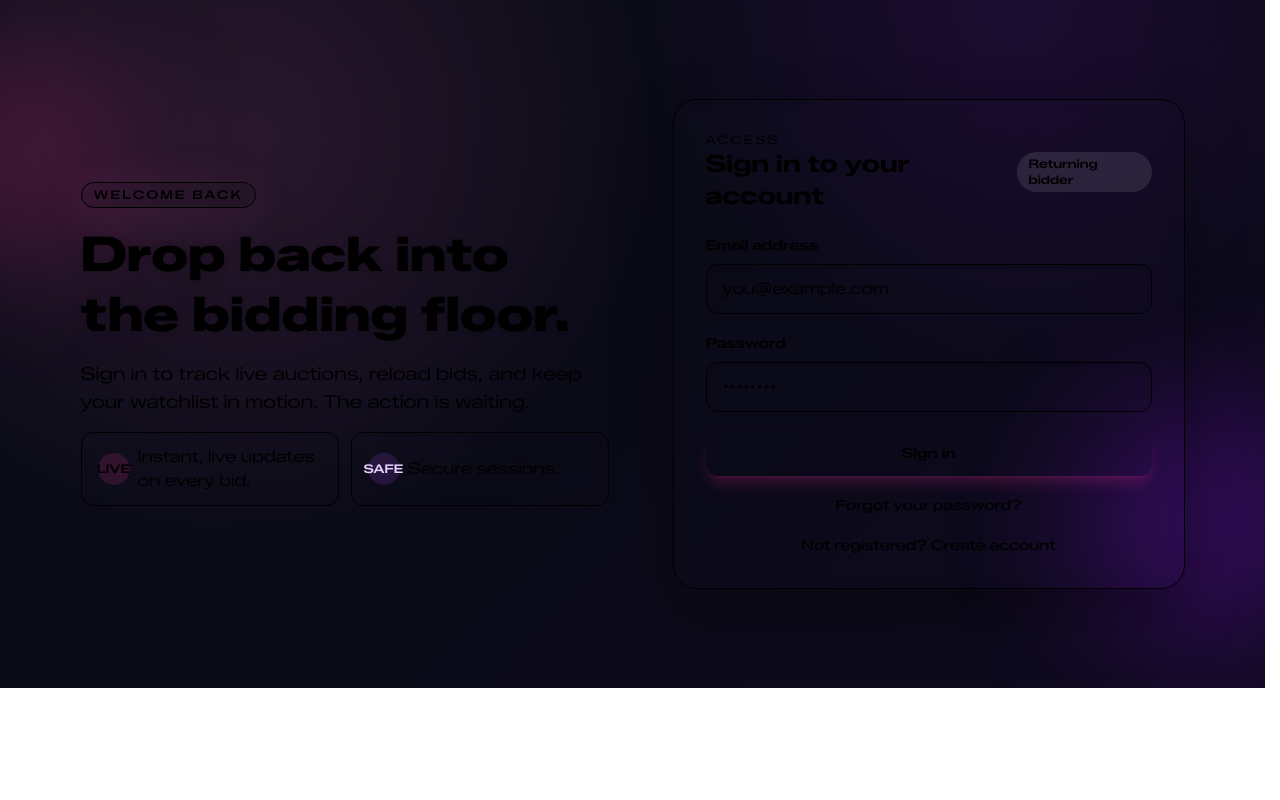
Test: LoginForm › links validation errors via aria-describedby and focuses the first invalid field
Type "nope@example.com" into the field labelled "Email address". click: {"x": 928, "y": 289}
box: left=706, top=264, right=1152, bottom=314
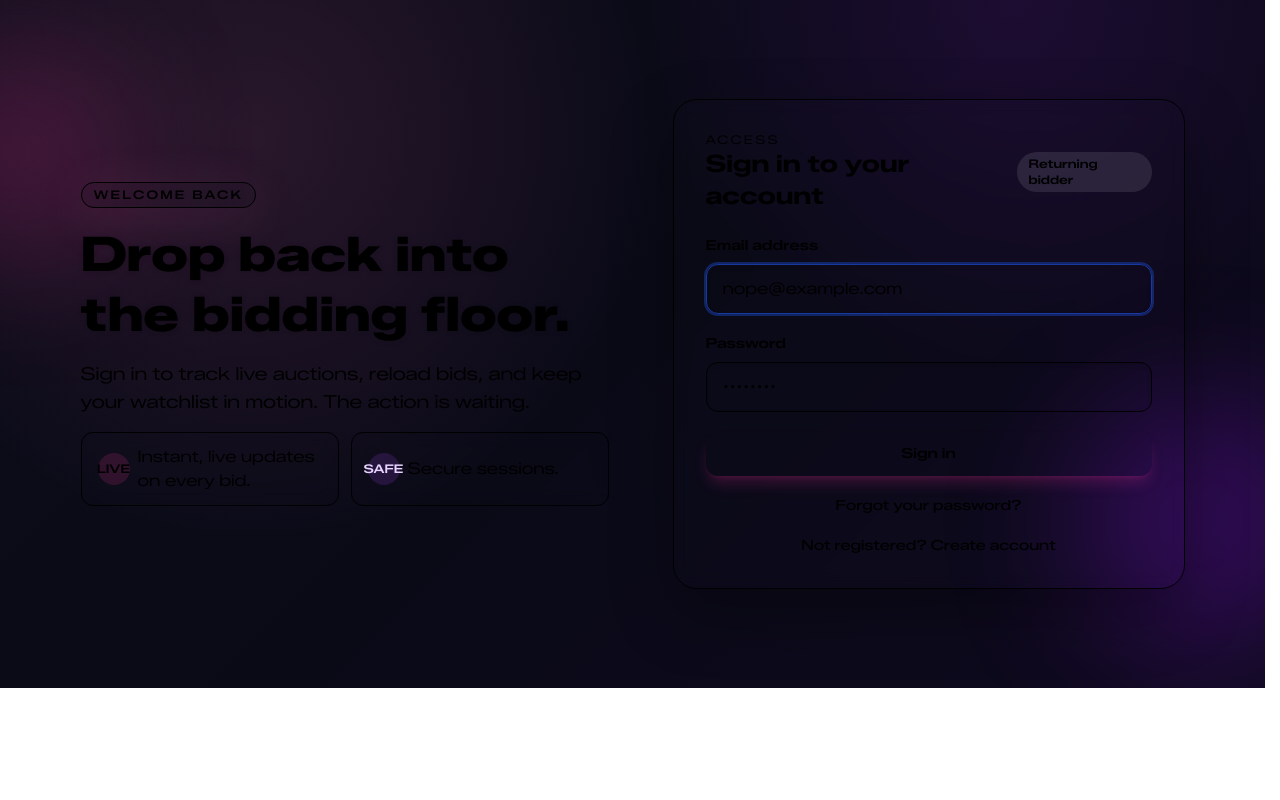
Type "password123" into the password field labelled "Password". click: {"x": 928, "y": 387}
box: left=706, top=362, right=1152, bottom=412
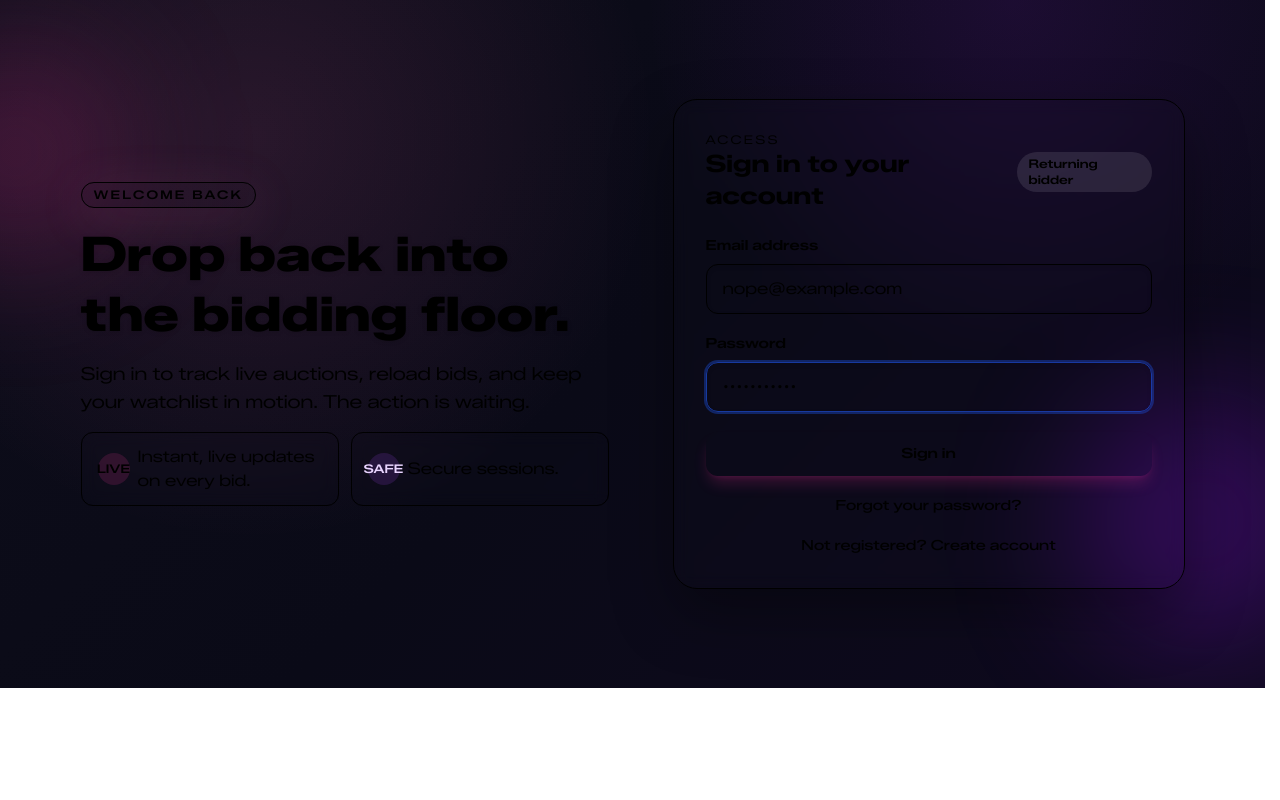
Click the button "Sign in". click: {"x": 928, "y": 454}
box: left=706, top=432, right=1152, bottom=476
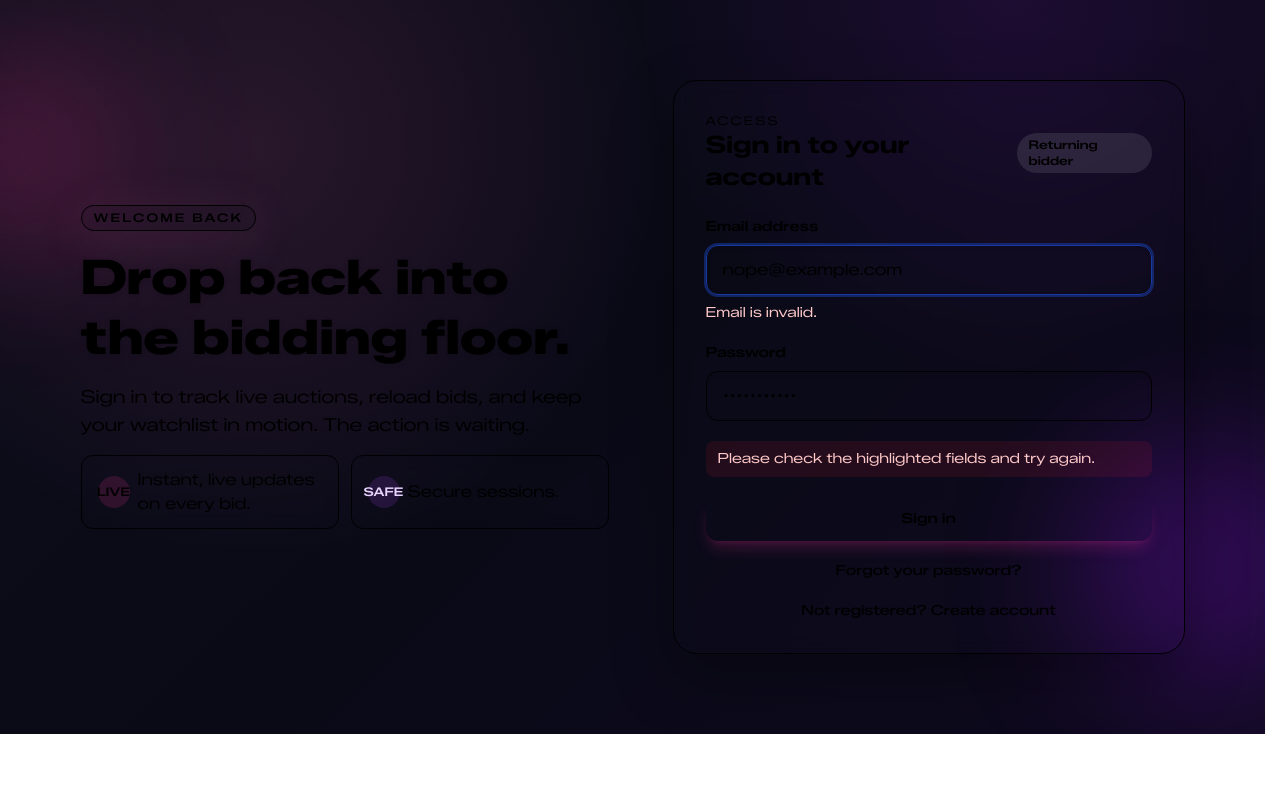
expect the text "Please check the highlighted fields and try again." is shown: met, box left=706, top=441, right=1152, bottom=477
expect the text "Email is invalid." is shown: met, box left=706, top=304, right=817, bottom=321
